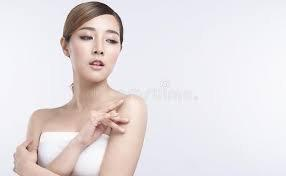Sober: (76, 17, 119, 80)
